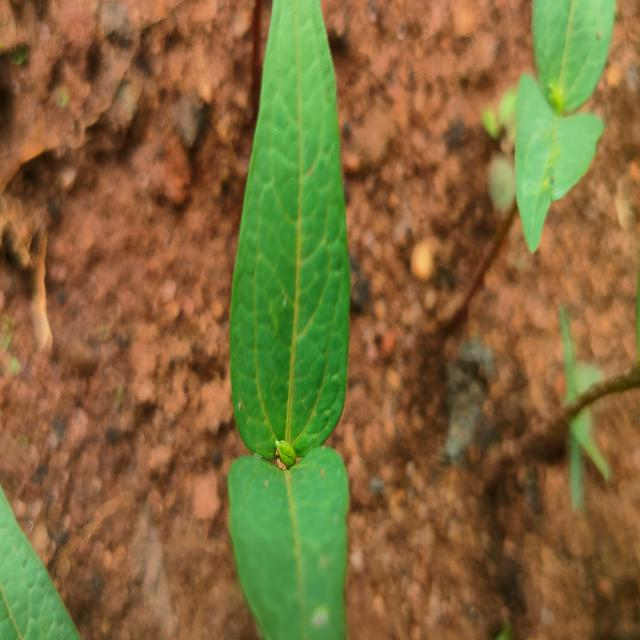Black gram_healthy: (231, 0, 349, 460), (226, 449, 348, 640)
